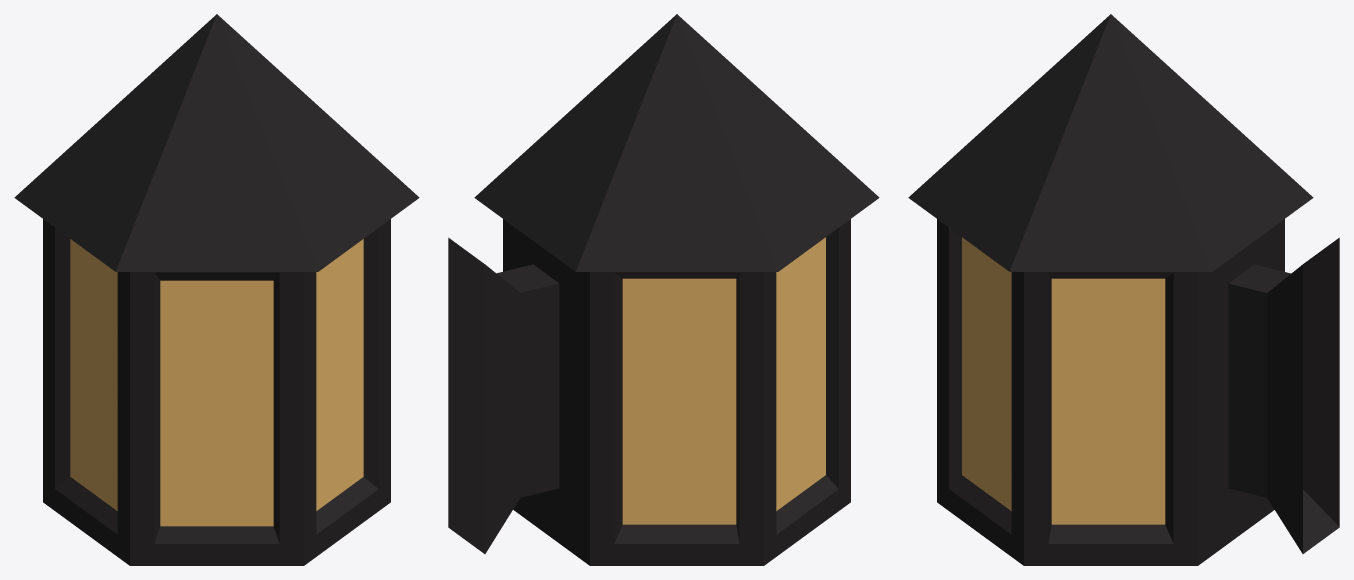
The model's file is low-poly_lantern.glb.
The picture shows the model from 3 angles, left to right: view 1: azimuth 30°, elevation 25°; view 2: azimuth 150°, elevation 25°; view 3: azimuth 270°, elevation 25°; orthographic projection.
Parts seen in each view (by area): view 1: Lantern; view 2: Lantern; view 3: Lantern.
Part boxes in pixels (x1,y1,x2,y2): Lantern: [14, 14, 419, 565]; Lantern: [448, 14, 879, 565]; Lantern: [908, 14, 1339, 565].
Size of the model in its own units: 202 by 349 by 248.
Materials: 1 (1 with a texture image).
